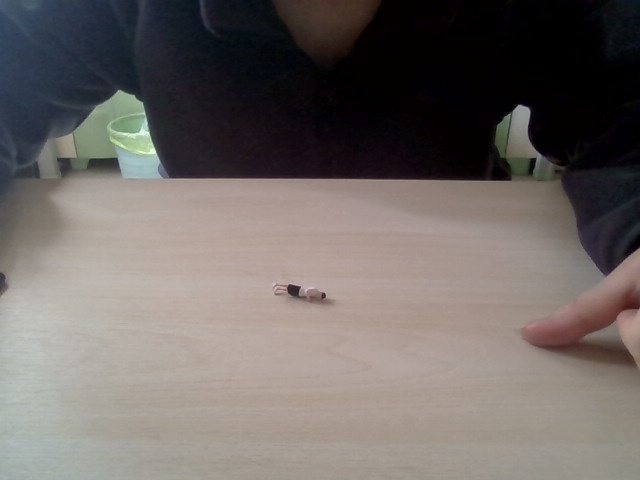fall: (269, 275, 335, 305)
